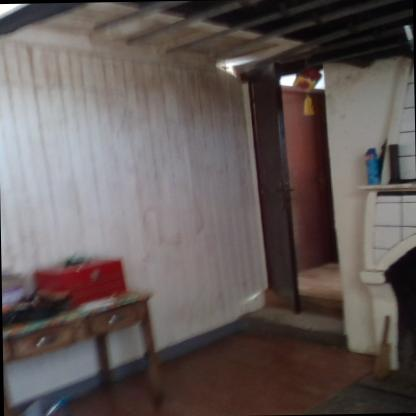semi: (242, 53, 340, 322)
